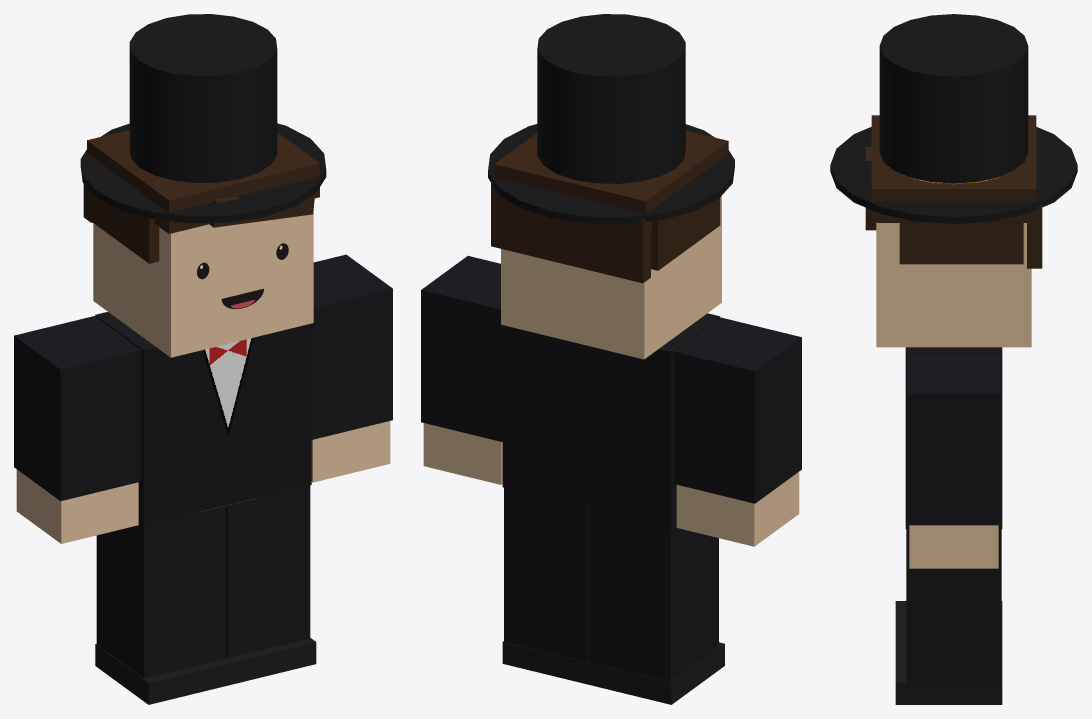
Rendered from ringmaster.glb.
3 renders of one model, left to right at view 1: azimuth 30°, elevation 25°; view 2: azimuth 150°, elevation 25°; view 3: azimuth 270°, elevation 25°, orthographic.
Parts seen in each view (by area): view 1: head, torso, arm_R, leg_R, arm_L, leg_L, face; view 2: head, torso, arm_R, leg_R, arm_L, leg_L; view 3: head, arm_L, leg_L, torso, leg_R.
Part boxes in pixels (x1,y1,x2,y2): head: (80, 14, 326, 357); torso: (95, 312, 311, 525); arm_R: (14, 316, 141, 543); leg_R: (95, 506, 232, 704); arm_L: (311, 254, 392, 482); leg_L: (226, 485, 316, 684); face: (197, 243, 288, 309); head: (488, 14, 734, 359); torso: (502, 313, 720, 528); arm_R: (674, 317, 801, 546); leg_R: (587, 508, 724, 704); arm_L: (421, 256, 502, 484); leg_L: (502, 487, 588, 684); head: (830, 14, 1077, 347); arm_L: (907, 354, 1000, 568); leg_L: (895, 529, 1002, 704); torso: (905, 347, 1002, 529); leg_R: (895, 601, 1002, 641).
Size of the model in its own units: 0.99 by 1.76 by 0.6375.
10 materials, 2 textured.
